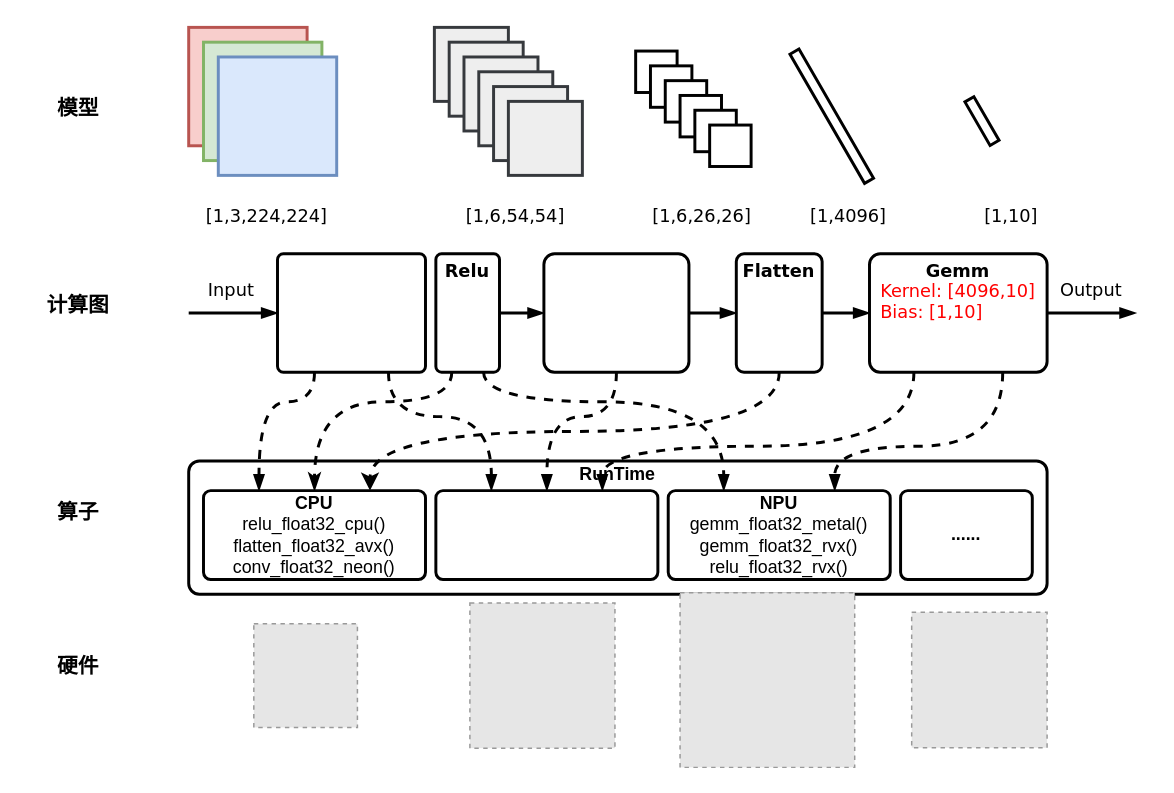
Image size: 1174x793. Some labels were removed from this diagram. Grey dashed boxes stand in for pictures. Here are the shapes that lost their labels. From the top down, the box of each, then its label:
(275, 252, 426, 373): Conv Kernel: [11,11] strides: [4, 4] Pad: 1
(542, 252, 690, 373): MaxPool Kernel: [11,11] strides: [3, 3] Pad: 2
(434, 488, 659, 580): GPU gemm_float32_cuda() conv_float32_cuda() maxpool_float32_cuda()
